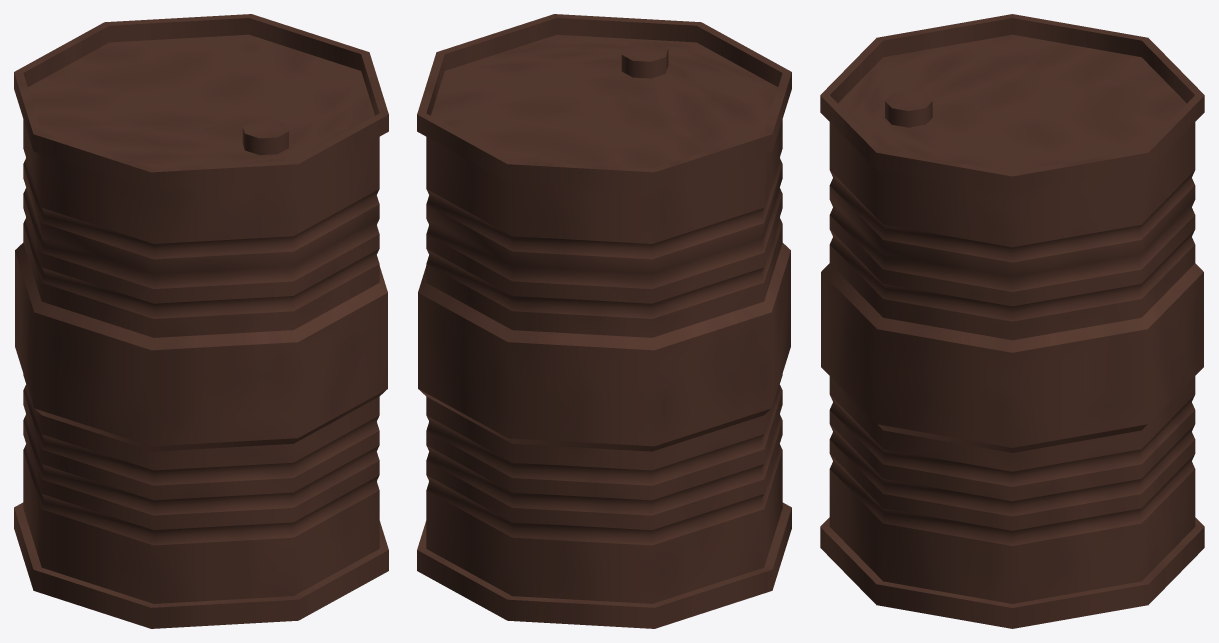
File: Bochka1.fbx
3 renders of one model, left to right at view 1: azimuth 30°, elevation 25°; view 2: azimuth 150°, elevation 25°; view 3: azimuth 270°, elevation 25°, orthographic.
Parts seen in each view (by area): view 1: Cylinder.008; view 2: Cylinder.008; view 3: Cylinder.008.
Boxes of the visible parts, <box> form: Cylinder.008: <box>14,14,388,628</box>; Cylinder.008: <box>417,14,791,628</box>; Cylinder.008: <box>820,14,1204,628</box>.
Bounding box in the file's own units: 86.46 × 112 × 86.46.
